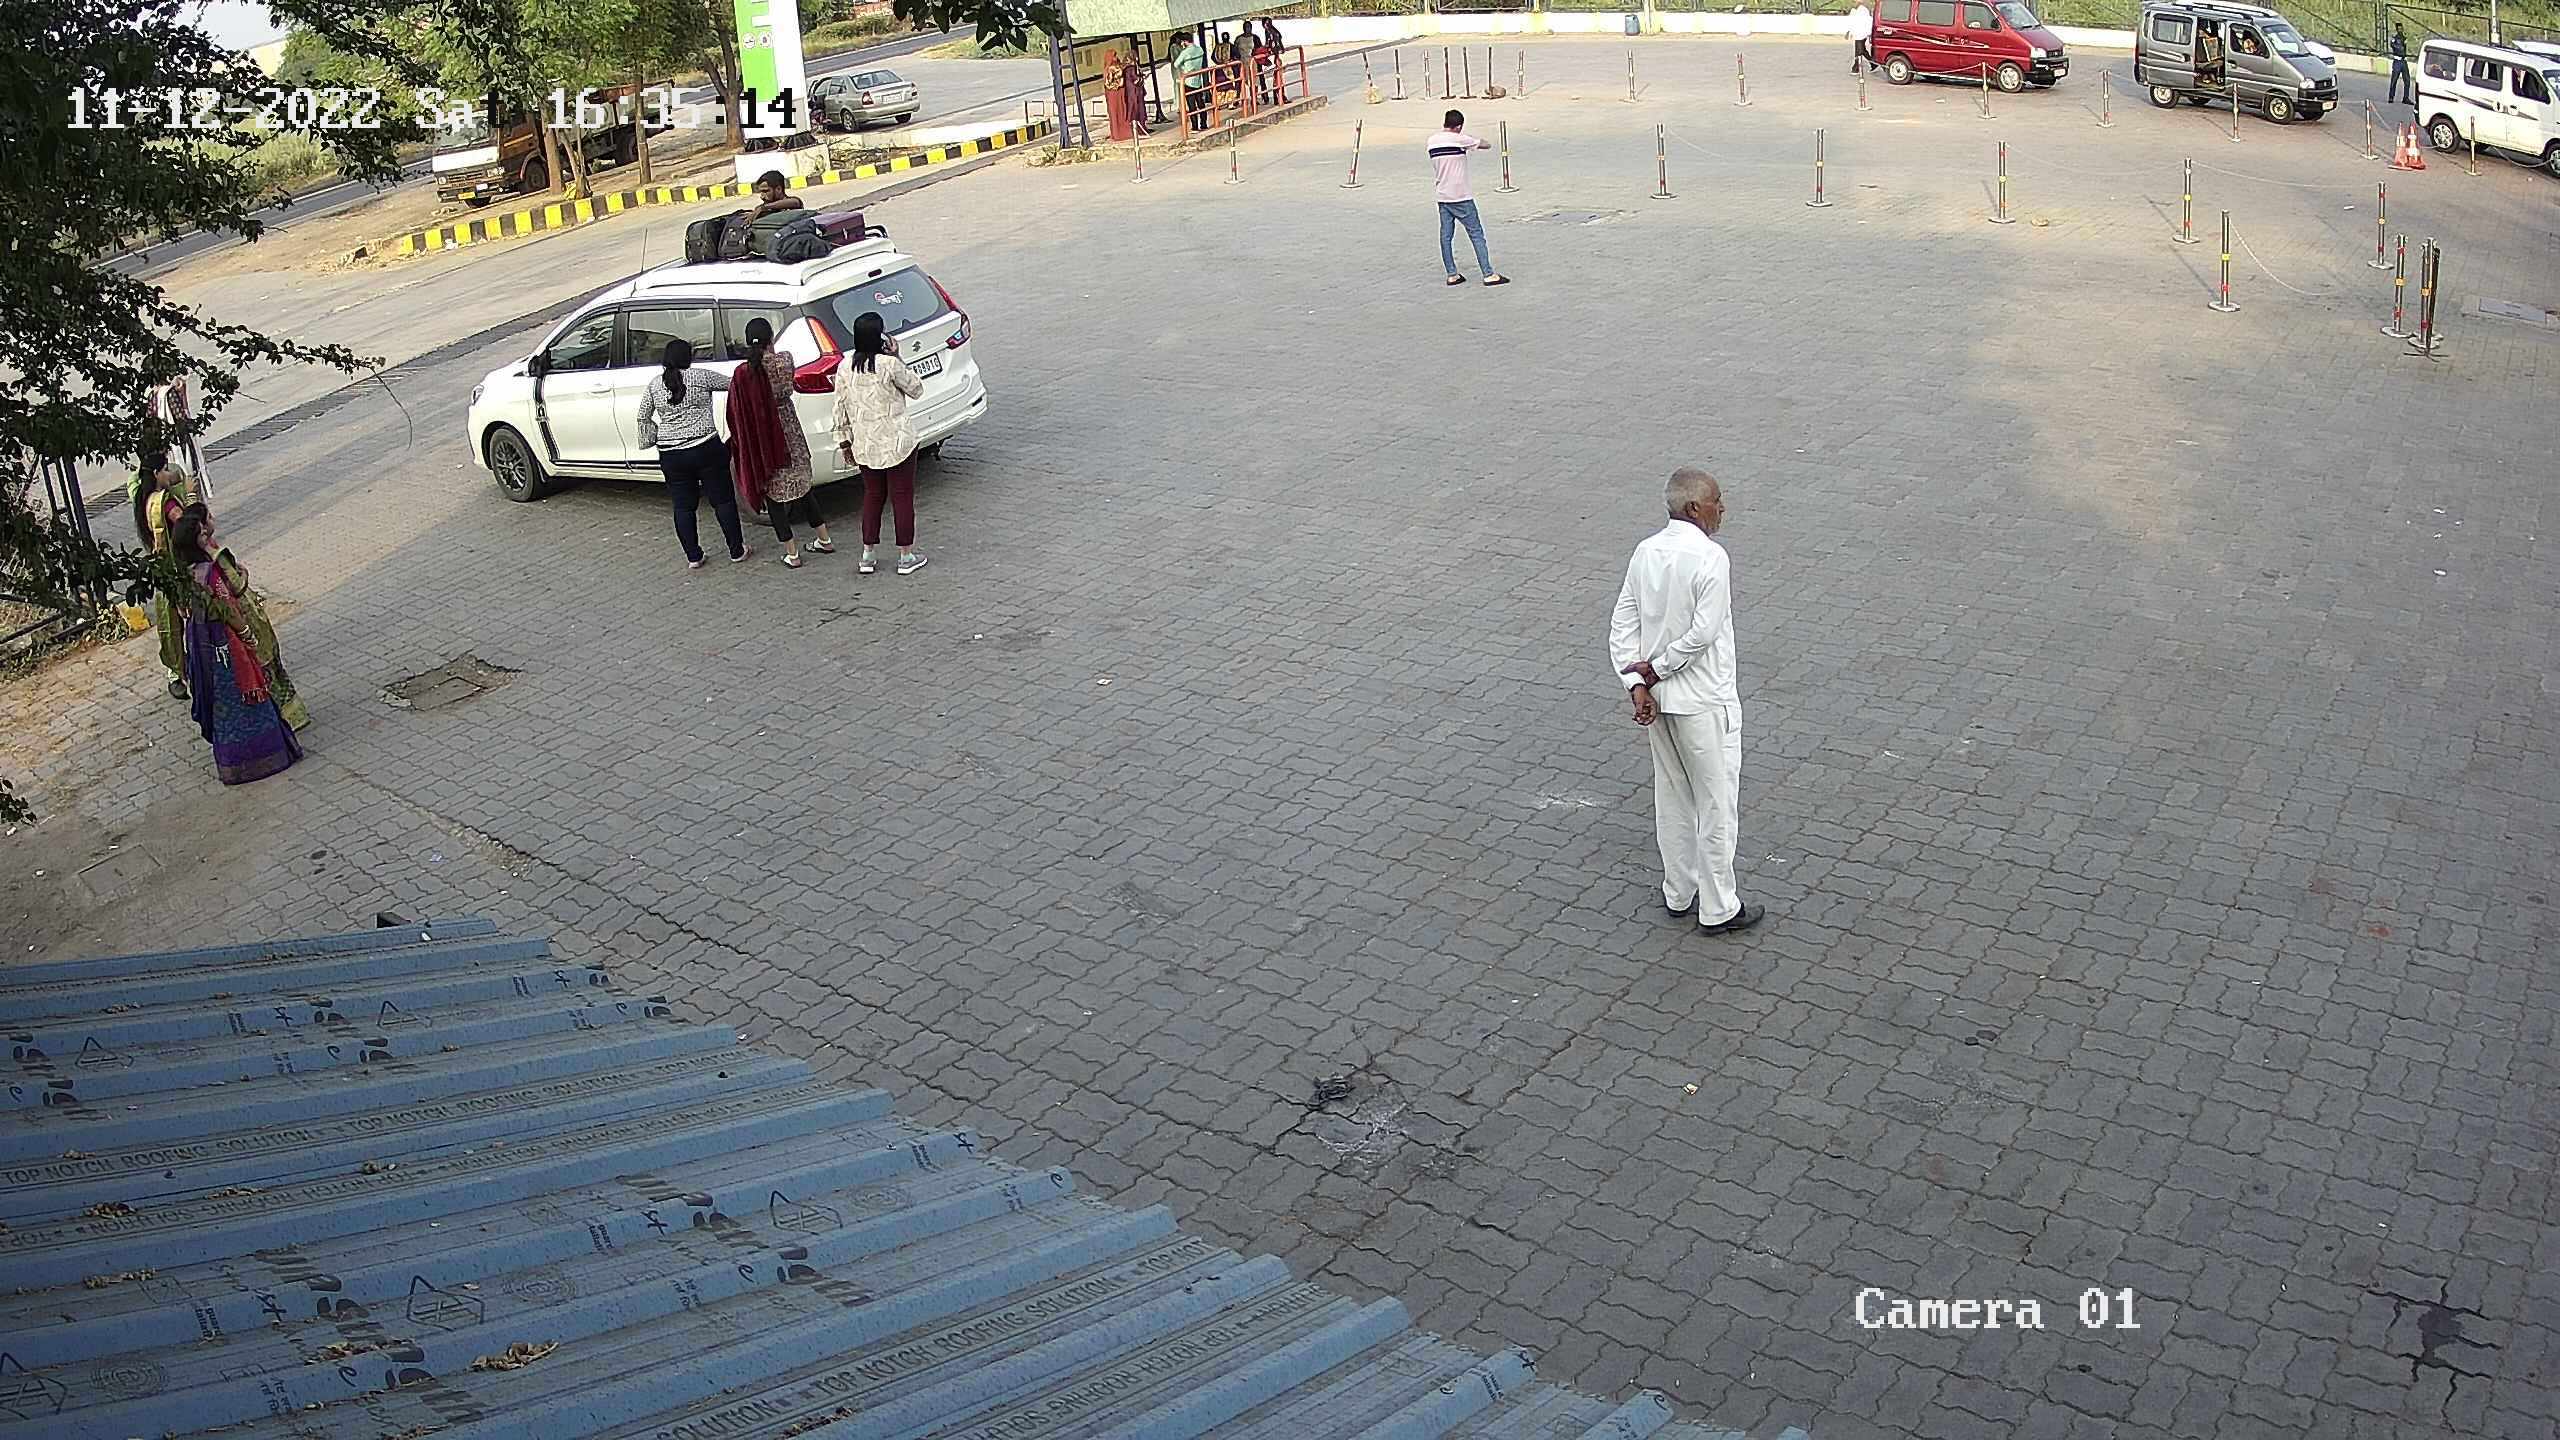Car: (461, 165, 992, 533), (2126, 0, 2345, 127), (2396, 26, 2558, 193), (1853, 2, 2073, 98), (798, 63, 925, 134), (2505, 26, 2556, 81)
HMV: (418, 67, 554, 216)
